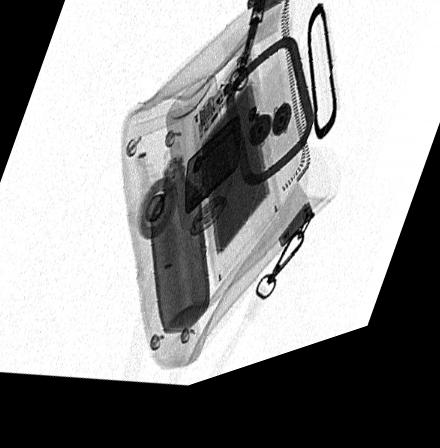Lighter: (183, 129, 242, 228)
Powerbank: (190, 61, 281, 302)
Sprayer: (165, 88, 235, 277)
